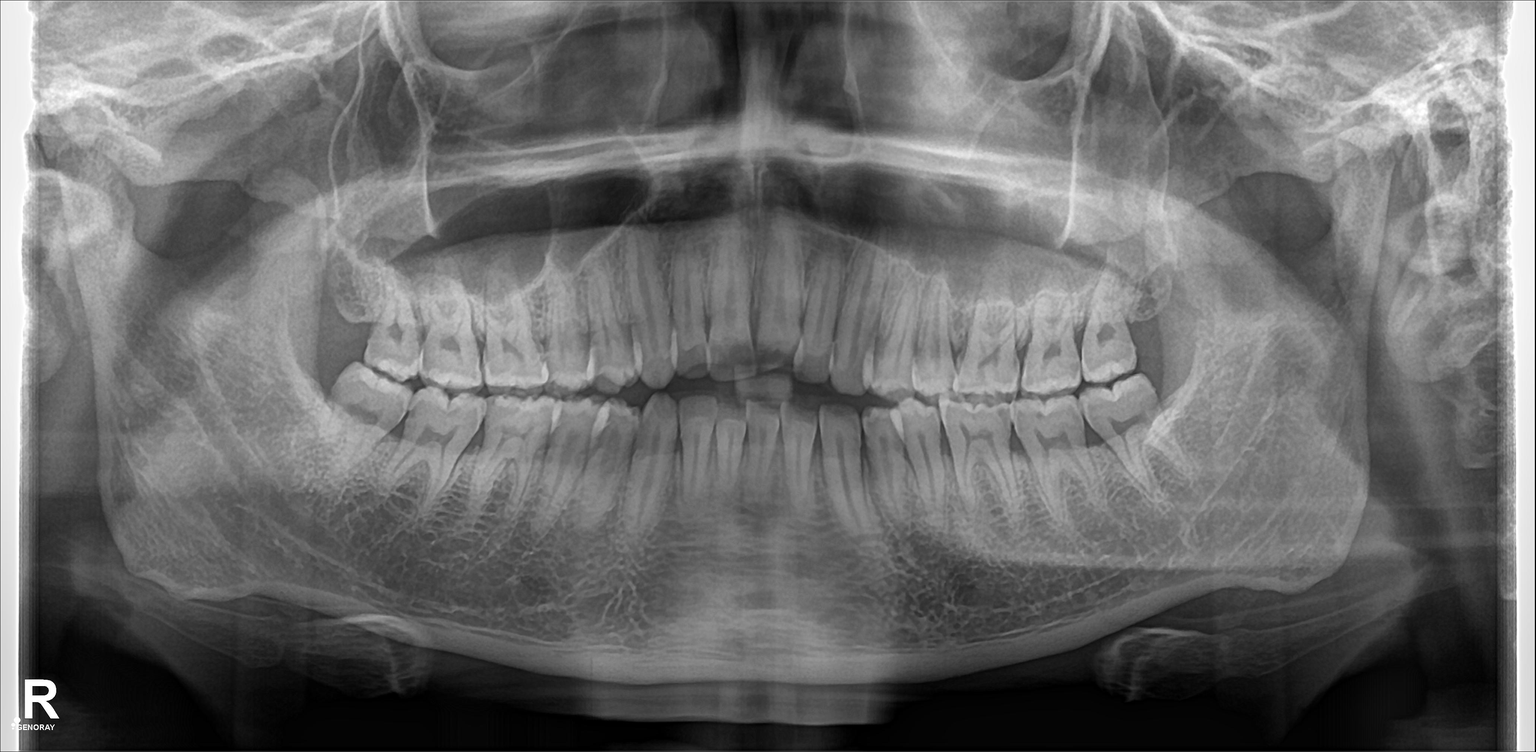Missing Tooth: (1130, 262, 1187, 365), (322, 251, 380, 340)
